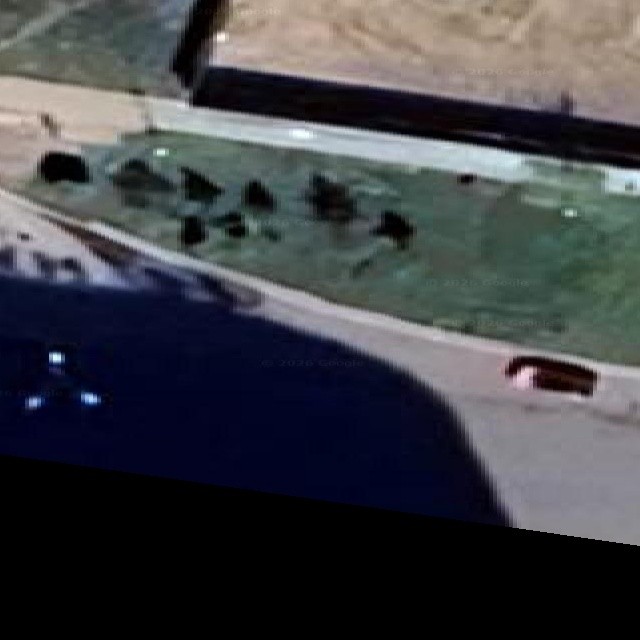car: (504, 355, 595, 395)
